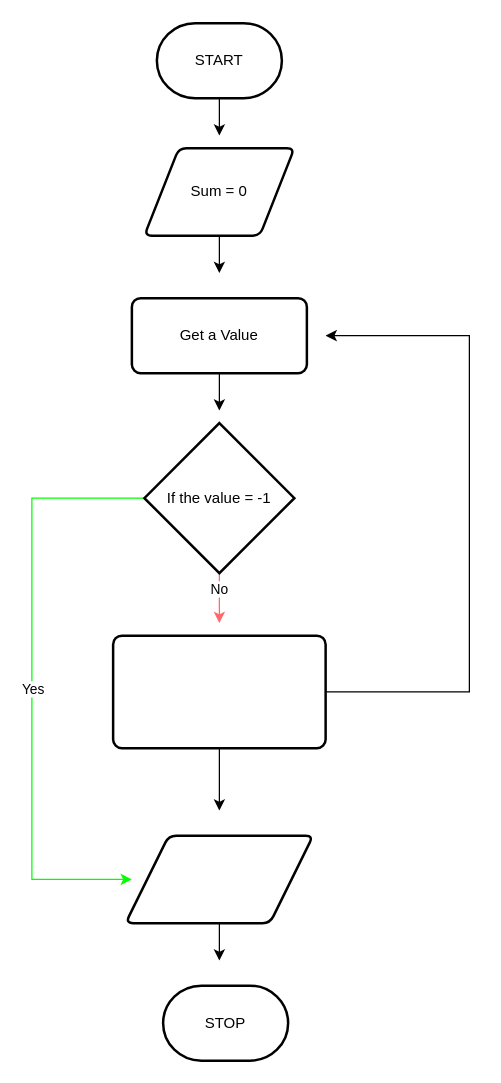
Some shapes in this 501 by 1083 pixel diagram are drawn without their labels. Each missing label, with the centre of its shape:
"Add to sum (sum = sum + value)" goes at (x=218, y=691).
"Output the Sum" goes at (x=219, y=879).
